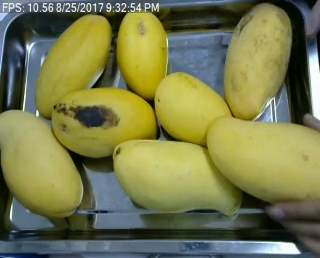Mango: (206, 114, 320, 209), (115, 140, 241, 216), (0, 107, 82, 218), (223, 2, 294, 120), (34, 11, 112, 118), (50, 87, 155, 159), (154, 72, 236, 145), (115, 9, 167, 98)
